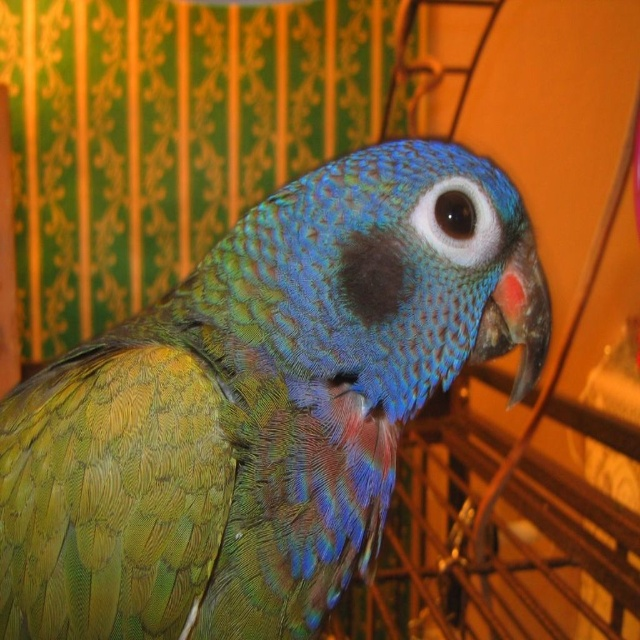Parrot: (0, 138, 569, 637)
